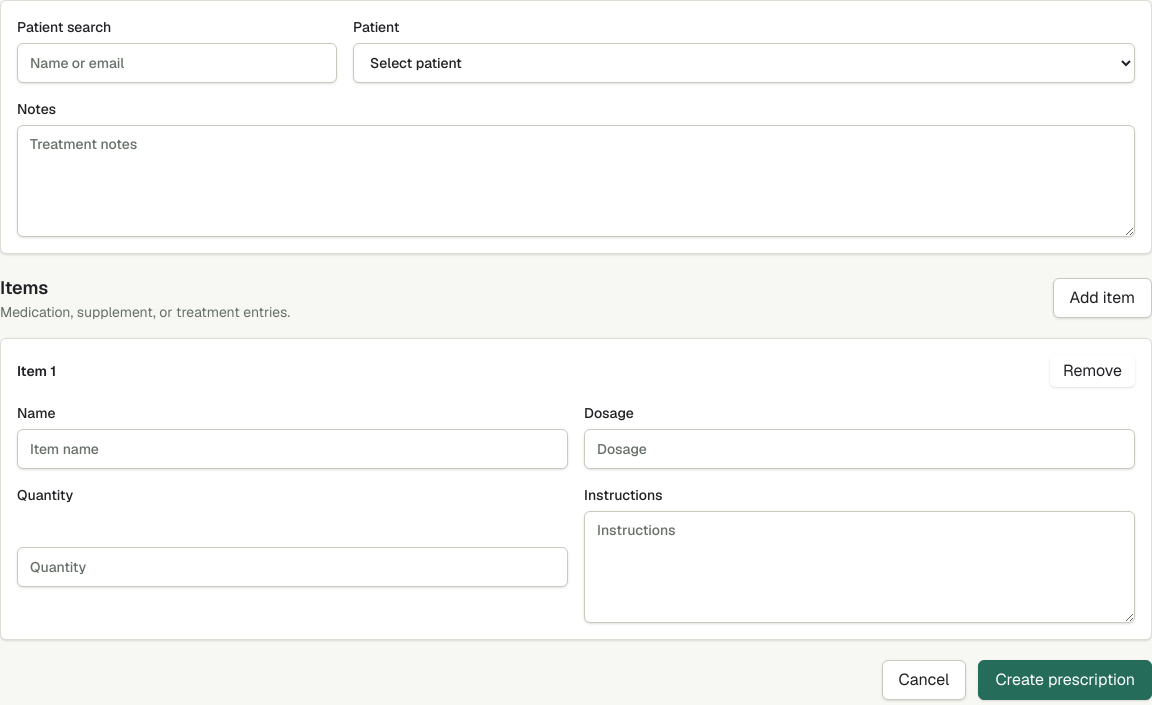
NewPrescriptionForm › validates required patient and item name
Expected: the dropdown labelled "Patient" is shown, left=353, top=43, right=1135, bottom=83
Click the button "Create prescription": (1065, 680) left=978, top=660, right=1151, bottom=700
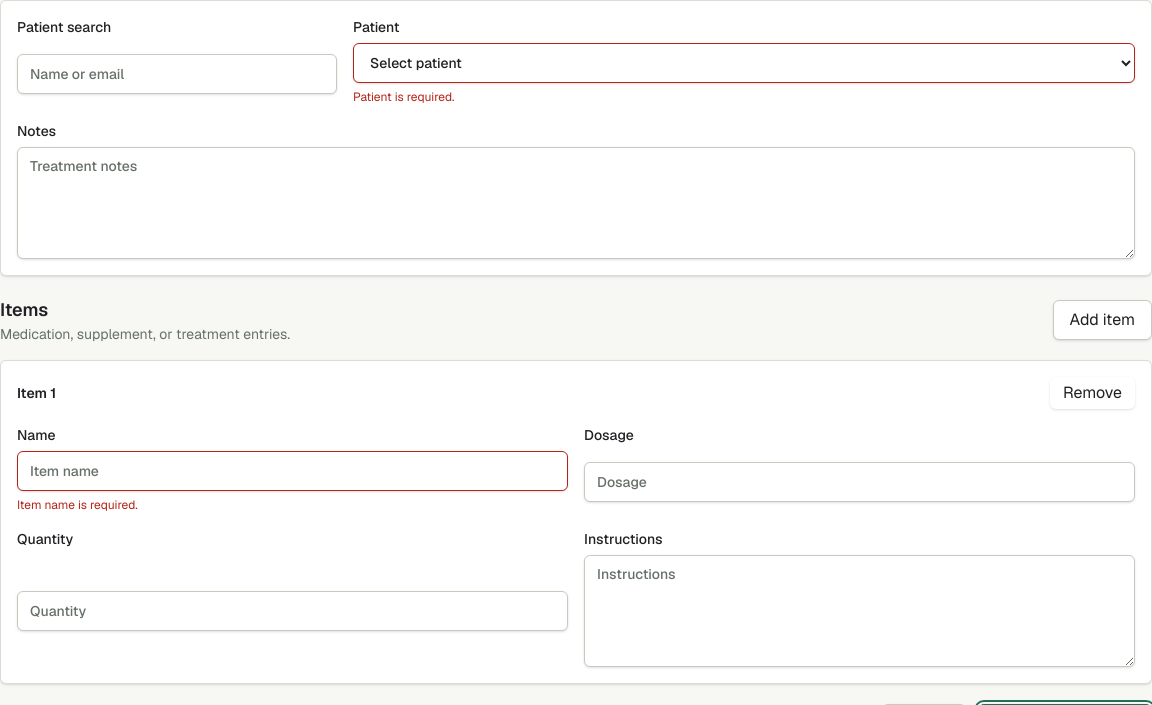
Now the text "Patient is required." is shown, box left=353, top=89, right=454, bottom=105
Now the text "Item name is required." is shown, box left=17, top=497, right=138, bottom=513
